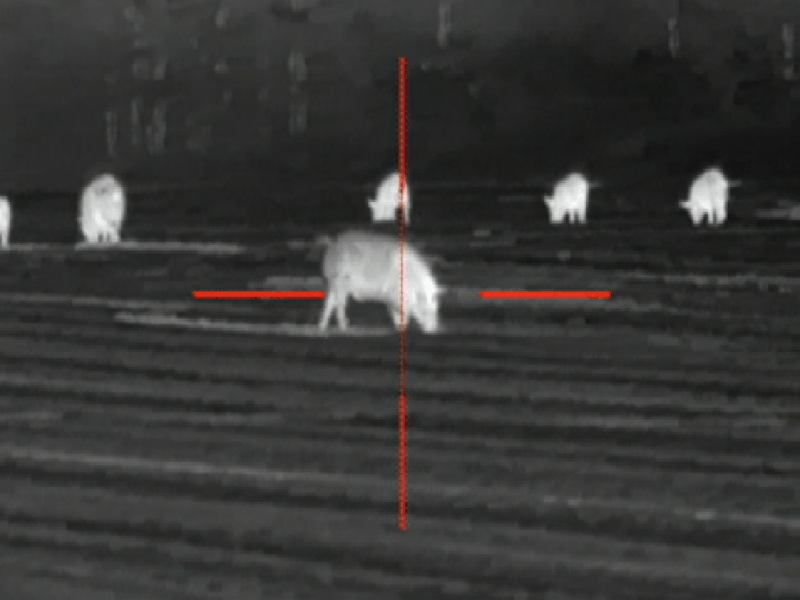cinghiale: (303, 227, 454, 339), (73, 169, 138, 254), (678, 160, 735, 236), (363, 169, 420, 243), (543, 172, 597, 232)
